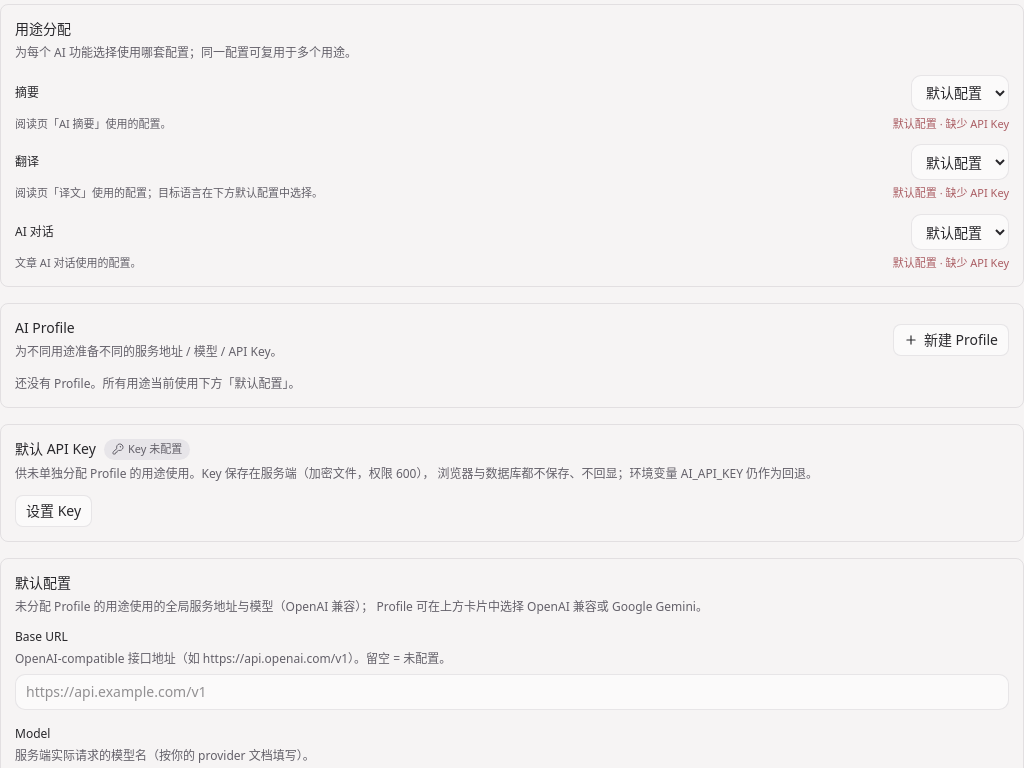
it: AiSettingsSection — Profile Provider 切换（P17 Gemini） › 切换到 gemini：Base URL 输入框被官方接口只读说明替代
The width and height of the screenshot is (1024, 768).
Click the button "新建 Profile" at (951, 340), box [893, 324, 1009, 356]
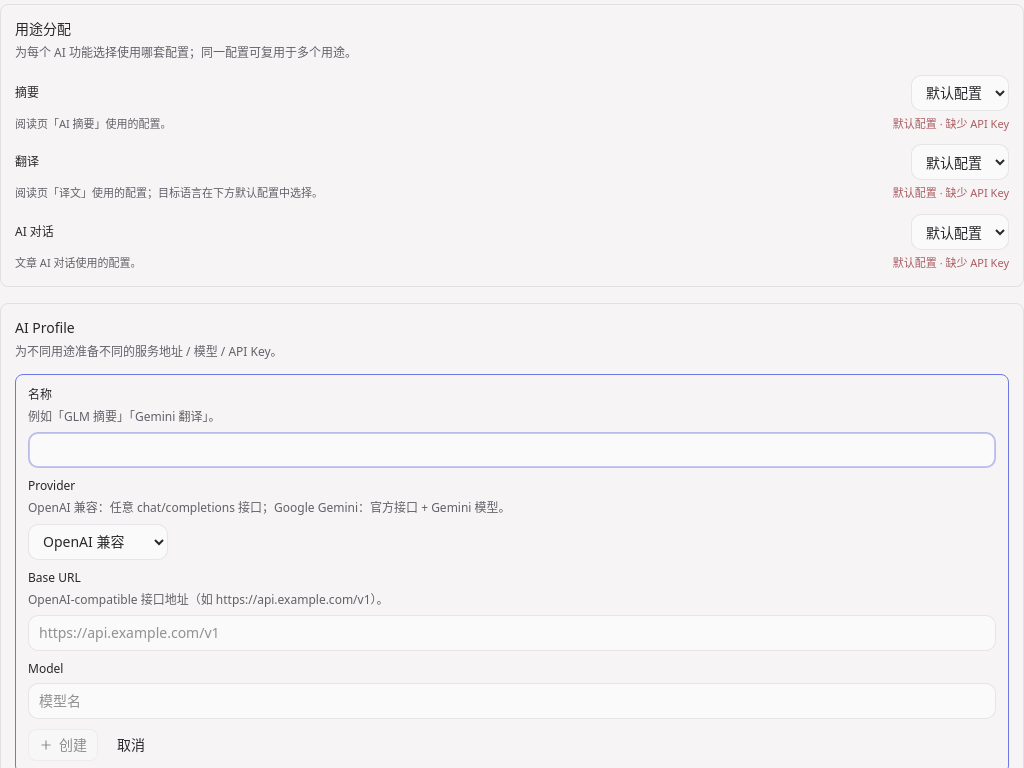
Select "Google Gemini" in the dropdown named "新 Profile Provider" at (98, 542), box [28, 524, 168, 560]
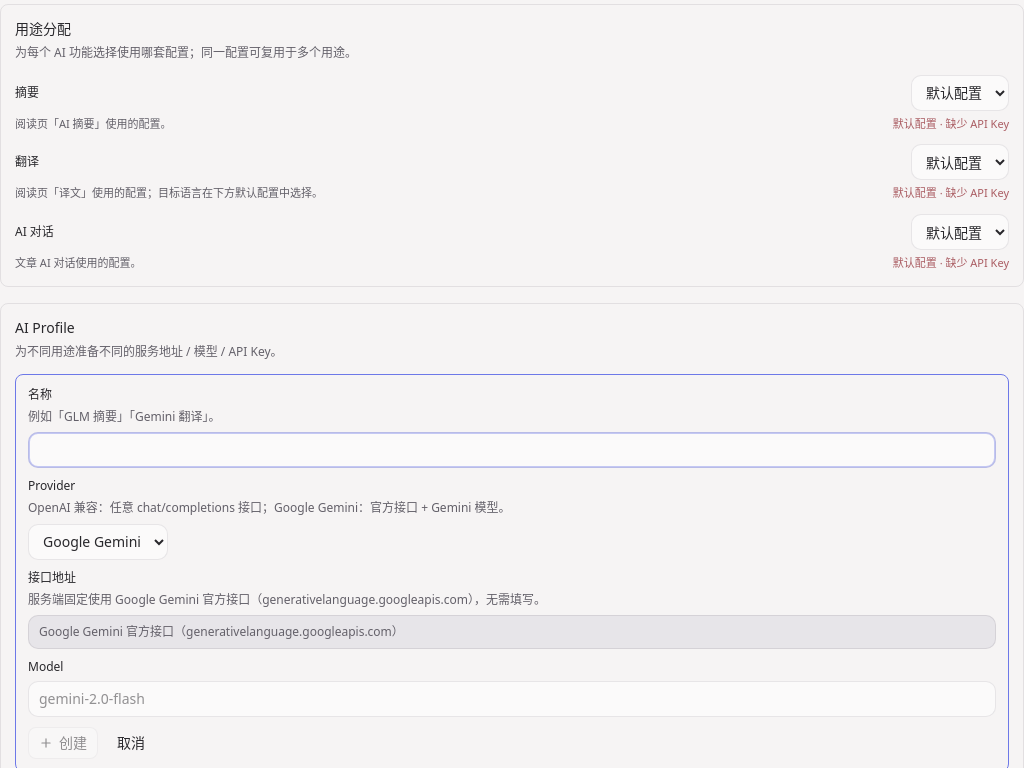
Check: the text "Google Gemini 官方接口（generativelanguage.googleapis.com）" is shown, box [28, 615, 996, 649]
